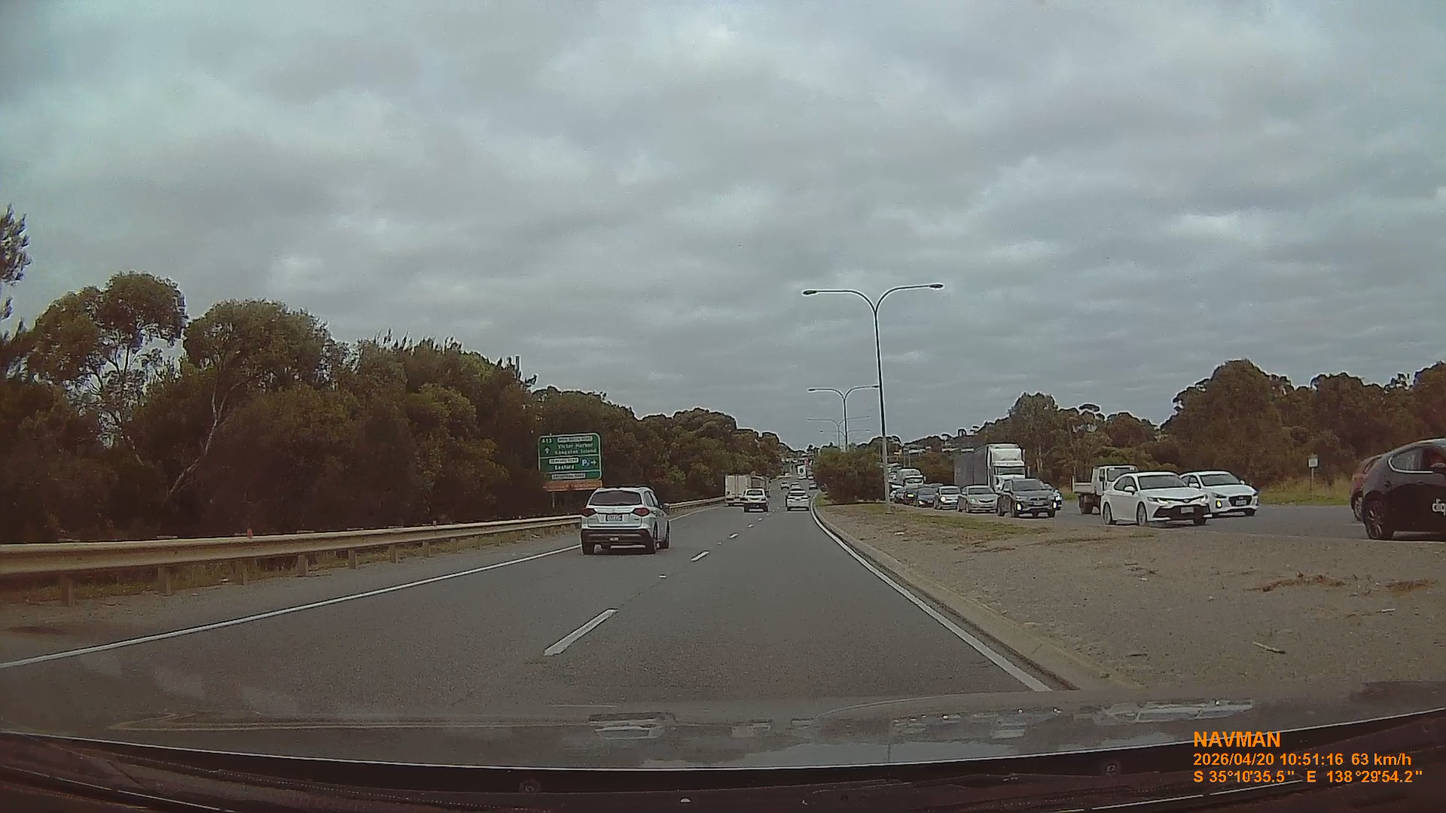road barriers: (0, 516, 576, 612)
